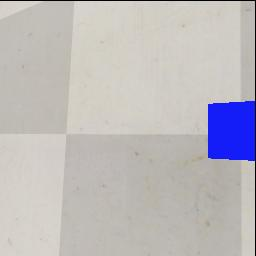box: (207, 101, 255, 161)
